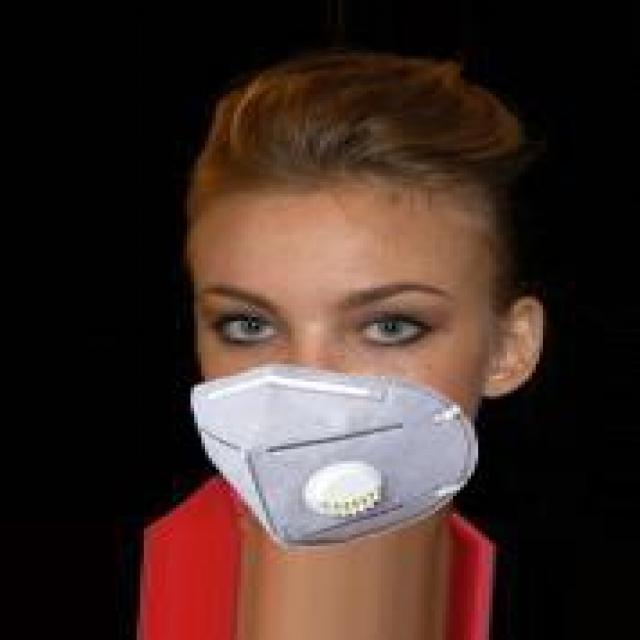mask: (148, 82, 568, 576)
